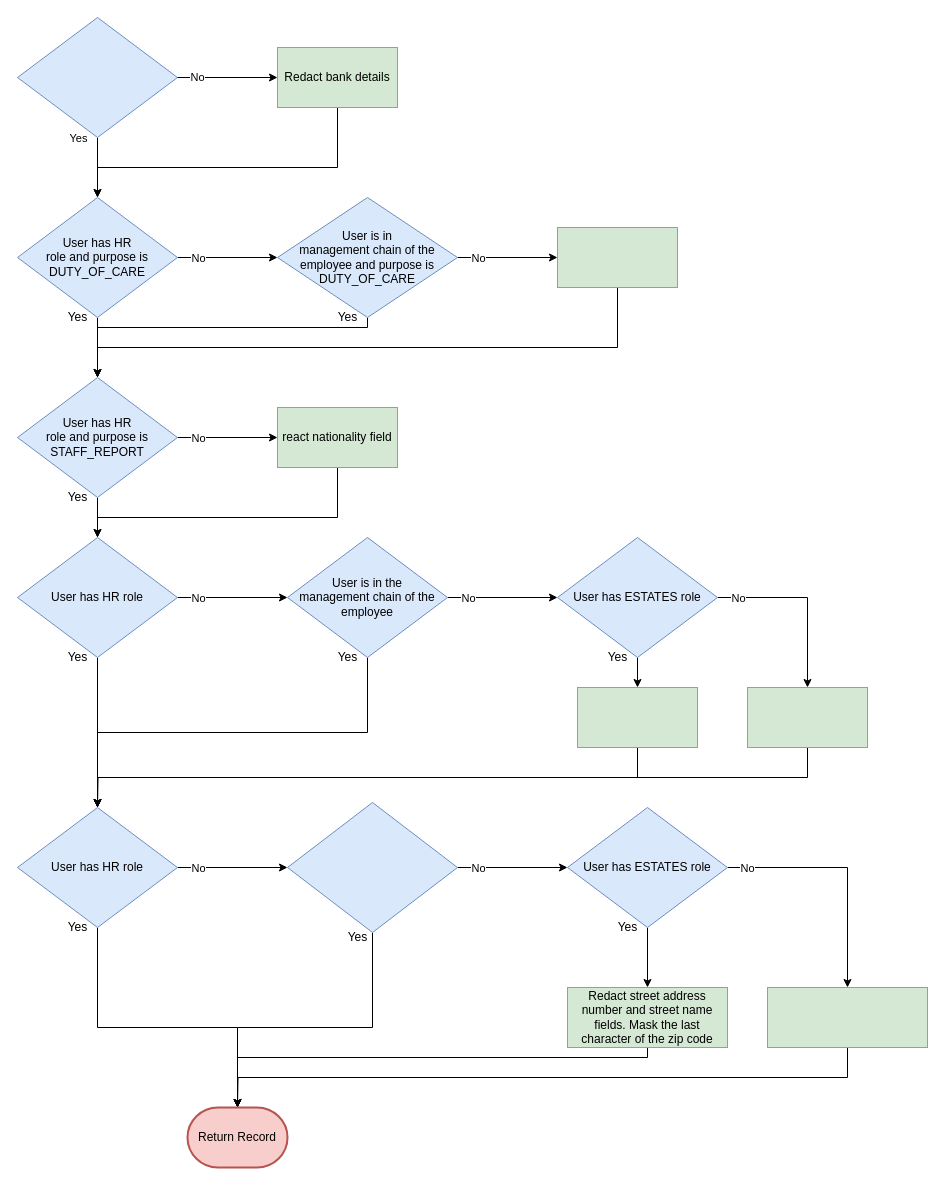
Some shapes in this 945 by 1186 pixel diagram are drawn without their labels. Here are the shapes that lost their labels. From the top down, the centre of each, then its label:
the point at 97,77: User has completed Payroll training and Purpose is SALARY
the point at 617,257: Redact contact numbers and emergency contacts
the point at 637,717: Redact DateOfBirth, HireDate, Grade and Manager fields
the point at 807,717: redact whole record
the point at 372,867: User is in the management chain of the employee and purpose is DUTY_OF_CARE
the point at 847,1017: Redact whole address field
